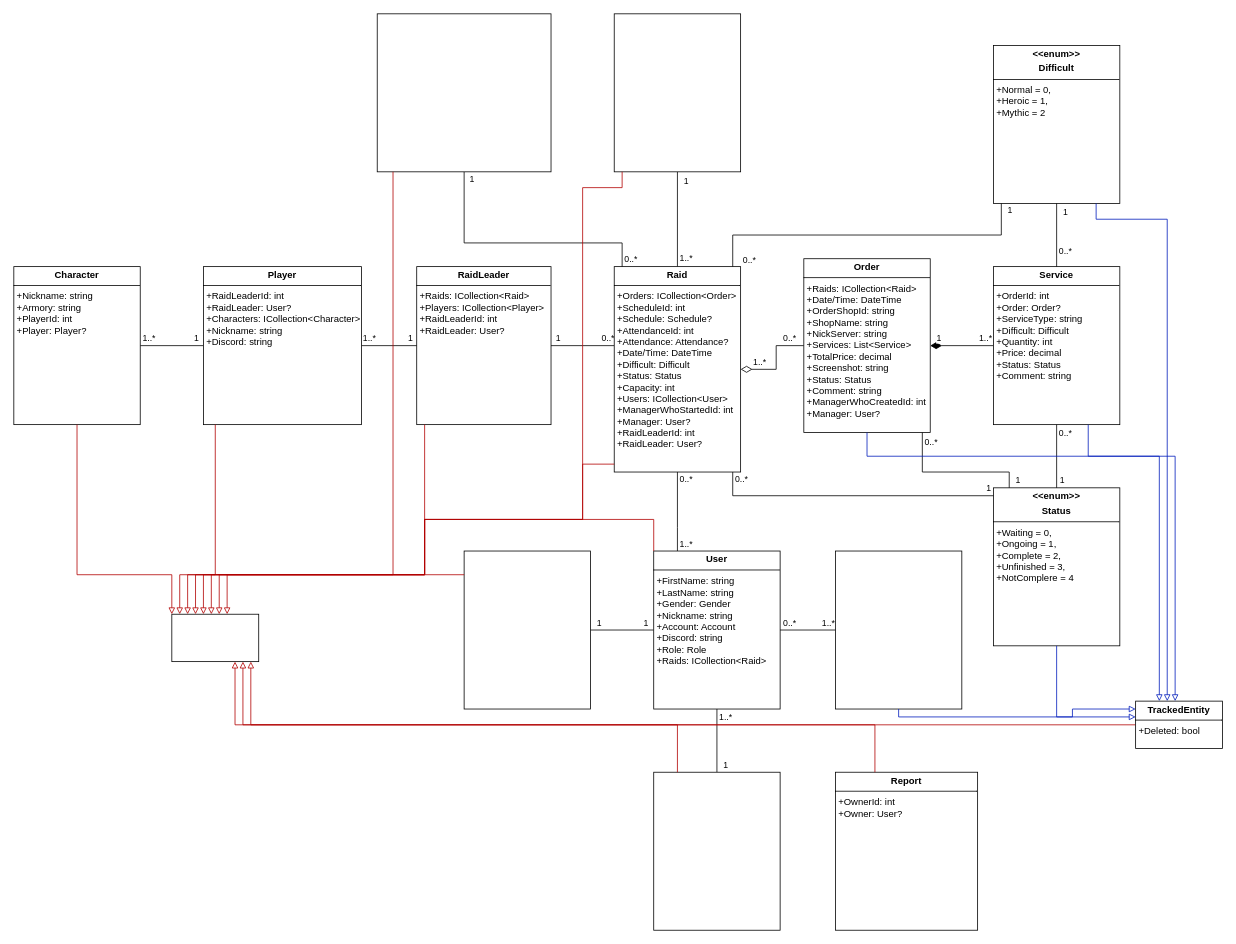
The diagram is 1236 pixels wide and 944 high, and some of its shapes have lost their labels. Each missing label, with the centre of its shape:
<<enum>> Gender +Male = 0, +Female = 1: [716,850]
<<enum>> Role +Owner = 0, +SuperManager = 1, +Manager = 2, +RaidLeader = 3: [898,629]
Account +Emain: string +Password: string +User: User? +UserId: int: [527,629]
Attendance +Date: DateTIme +Raids: ICollection<Raid>: [463,92]
Entity +Id: int: [215,637]
Schedule +DateTimeMSK: DateTime +DateTimeEDT: DateTIme +Raids: ICollection<Raid>: [677,92]
